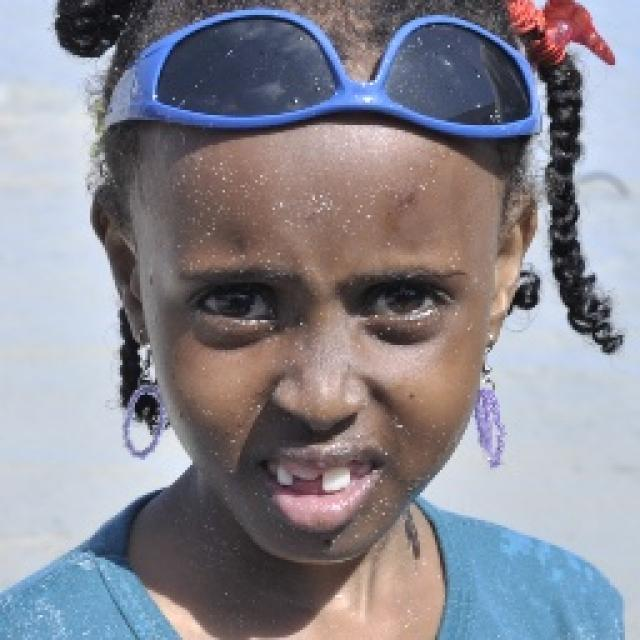earlobe: (485, 193, 540, 351), (90, 186, 146, 340)
